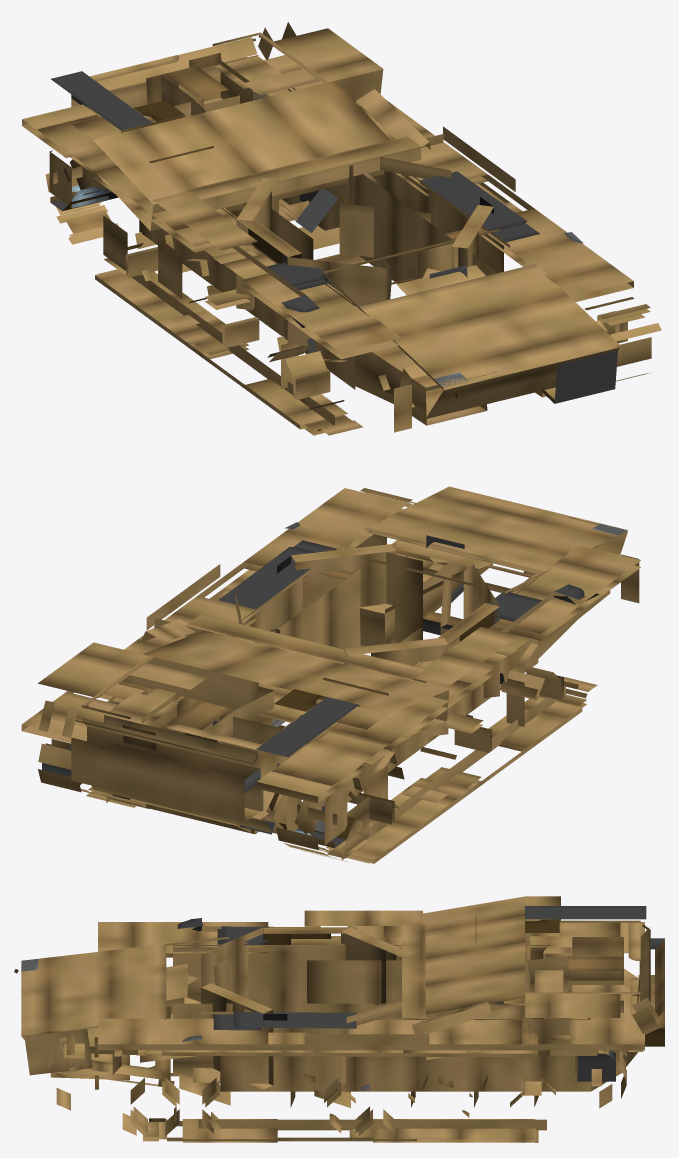
3 renders of one model, top to bottom at view 1: azimuth 30°, elevation 25°; view 2: azimuth 150°, elevation 25°; view 3: azimuth 270°, elevation 25°, orthographic. The views are drawn at different scales.
Parts seen in each view (by area): view 1: body, cube.202, cube.361, w9, w3, w7, w5, w10, w8, w1; view 2: body, cube.202, w9, w3, w7, w5, w8, cube.361, w6; view 3: body, cube.202, cube.361, w11, w18, w14, w12, w17.
Part boxes in pixels (x1,y1,x2,y2): body: (22, 22, 633, 425); cube.202: (45, 156, 661, 435); cube.361: (135, 199, 417, 390); w9: (49, 150, 117, 211); w3: (267, 341, 330, 400); w7: (126, 238, 182, 298); w5: (205, 289, 259, 348); w10: (597, 311, 651, 366); w8: (103, 215, 143, 276); w1: (394, 384, 411, 432); body: (21, 486, 640, 834); cube.202: (38, 488, 586, 863); w9: (279, 788, 354, 848); w3: (500, 664, 563, 726); w7: (357, 765, 399, 824); w5: (437, 712, 491, 752); w8: (327, 796, 369, 858); cube.361: (278, 567, 537, 803); w6: (402, 747, 456, 802); body: (14, 896, 664, 1091); cube.202: (47, 936, 626, 1142); cube.361: (112, 997, 538, 1107); w11: (130, 1078, 179, 1136); w18: (575, 1050, 615, 1086); w14: (324, 1078, 372, 1135); w12: (202, 1078, 219, 1133); w17: (510, 1077, 555, 1107).
Size of the model in its own units: 4.61 by 2.25 by 10.27.
